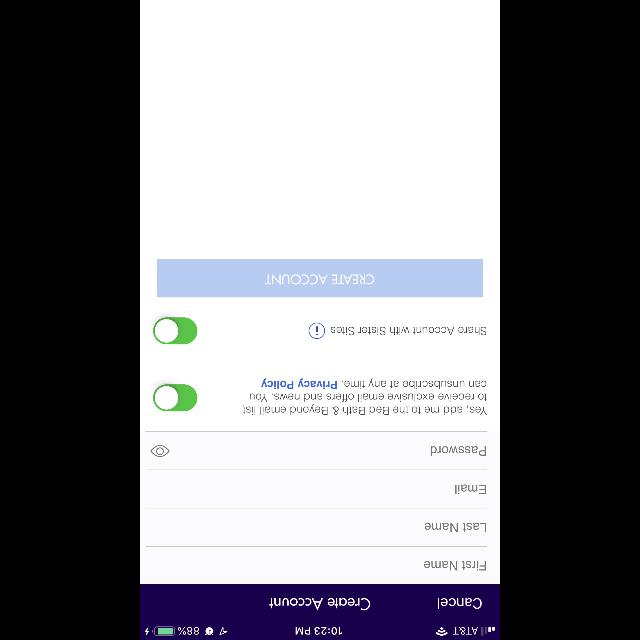icon: (309, 323, 325, 339), (150, 445, 170, 457)
input: (146, 431, 487, 457), (146, 470, 487, 494), (146, 508, 487, 532), (146, 546, 487, 570)
switch: (153, 384, 197, 412), (153, 318, 197, 344)
text: (243, 379, 487, 415), (330, 326, 486, 336), (270, 598, 370, 610), (423, 561, 485, 571), (424, 522, 486, 532), (430, 446, 486, 456), (437, 598, 481, 608), (454, 484, 486, 494)
textbutton: (157, 259, 483, 297)
uppertaskbar: (140, 626, 500, 640)
